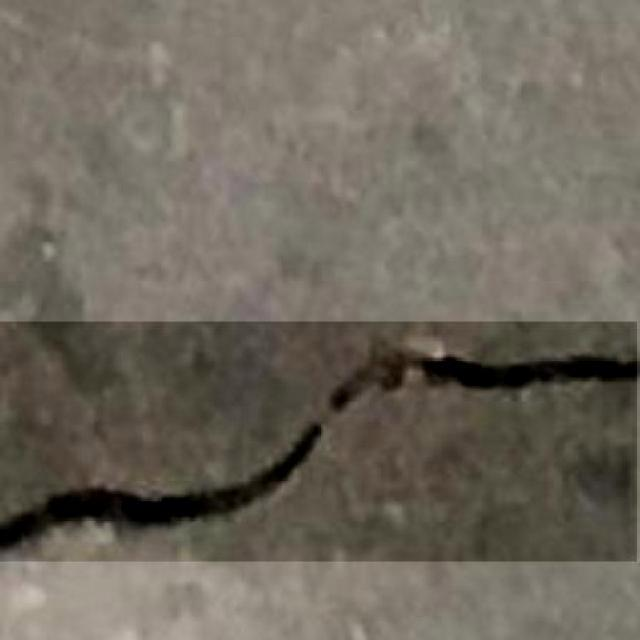crack: (0, 324, 640, 564)
